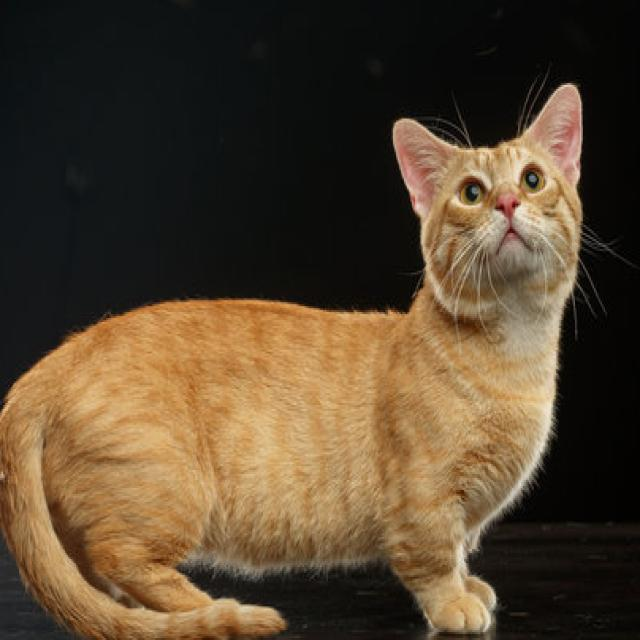Munchkin: (0, 79, 588, 640)
